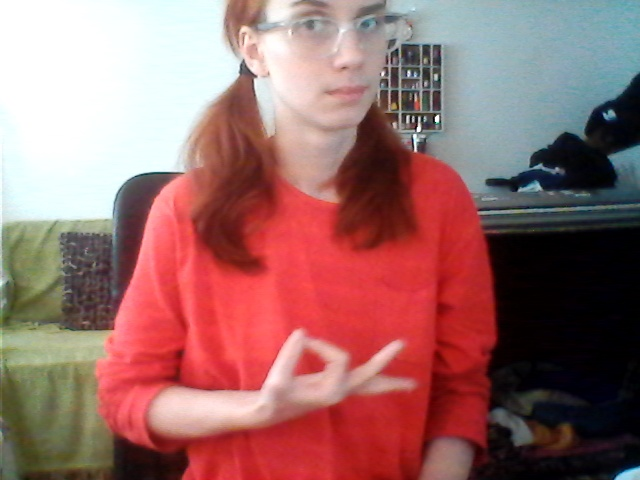co: (245, 324, 423, 426)
